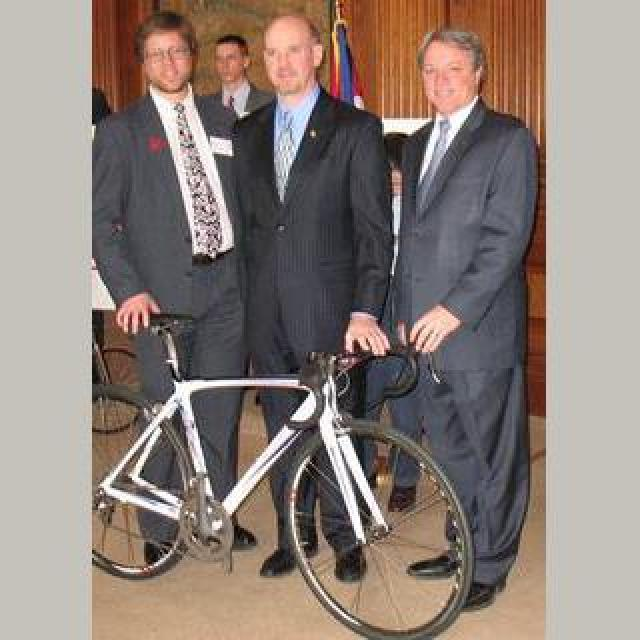MC-Bike: (348, 16, 538, 610), (230, 16, 404, 600), (86, 20, 258, 600)
Person: (96, 334, 498, 608)
